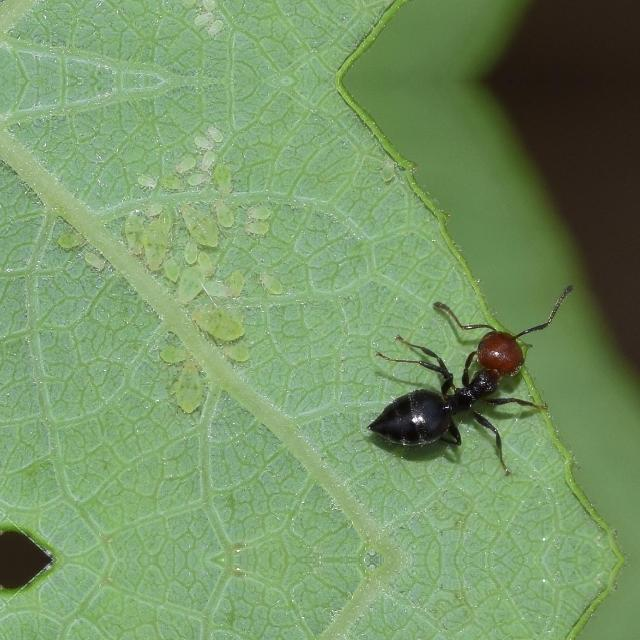Crematogaster: (364, 320, 544, 458)
